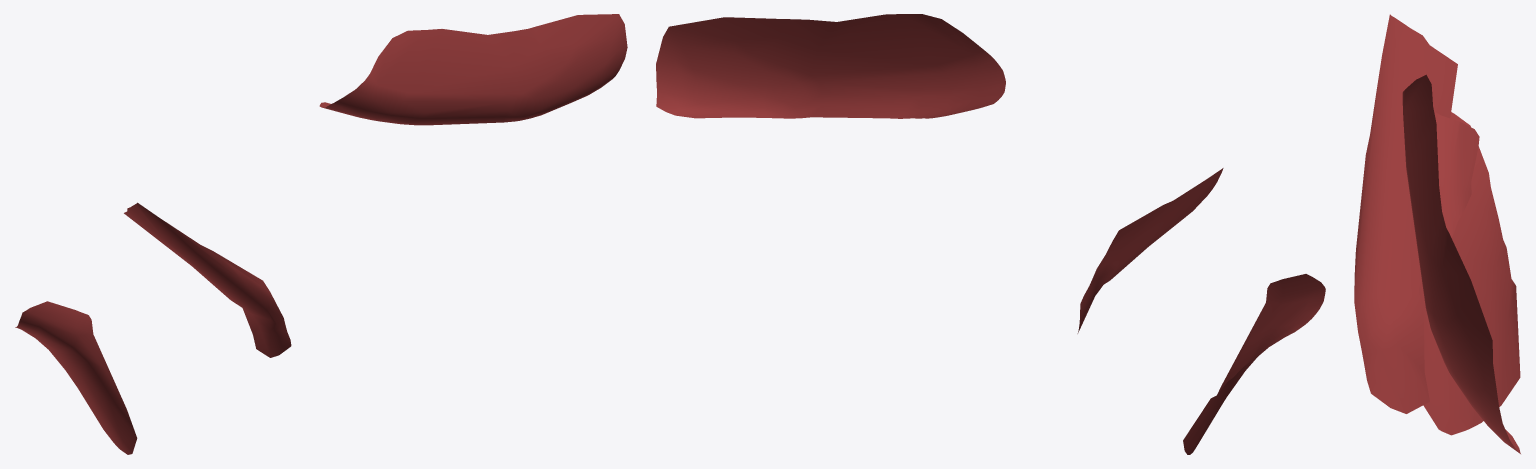
Rendered from rectus-abdominis-muscle-ol.glb.
3 renders of one model, left to right at view 1: azimuth 30°, elevation 25°; view 2: azimuth 150°, elevation 25°; view 3: azimuth 270°, elevation 25°, orthographic. The views are drawn at different scales.
Parts seen in each view (by area): view 1: Rectus abdominis muscle.ol; view 2: Rectus abdominis muscle.ol; view 3: Rectus abdominis muscle.ol.
Boxes of the visible parts, x1,y1,x2,y2 form: Rectus abdominis muscle.ol: [15, 14, 627, 454]; Rectus abdominis muscle.ol: [656, 14, 1325, 454]; Rectus abdominis muscle.ol: [1354, 14, 1520, 453].
Size of the model in its own units: 0.0725 by 0.0396 by 0.0108.
